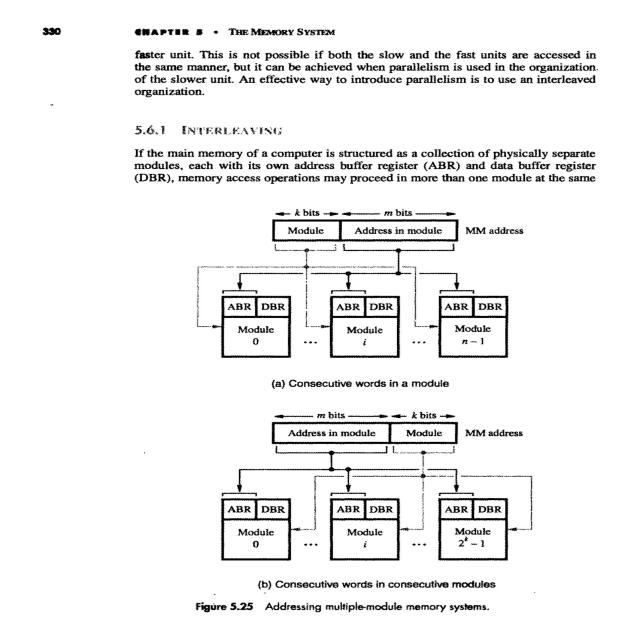diagram: (140, 189, 579, 640)
